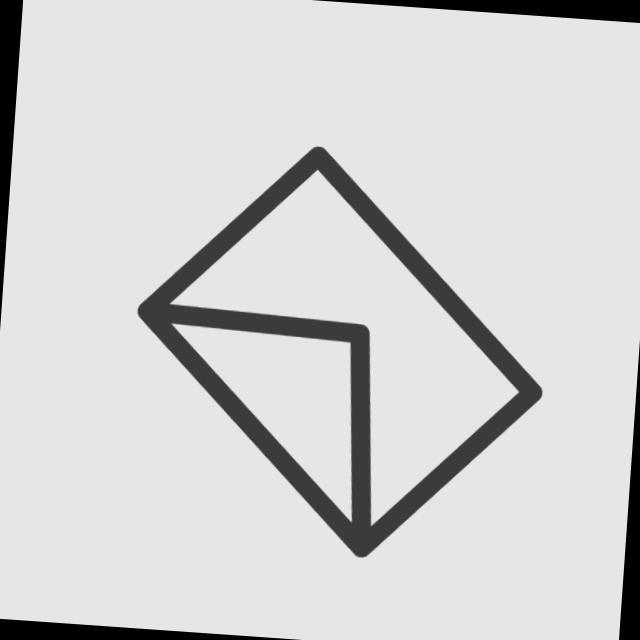letter: (111, 131, 567, 577)
